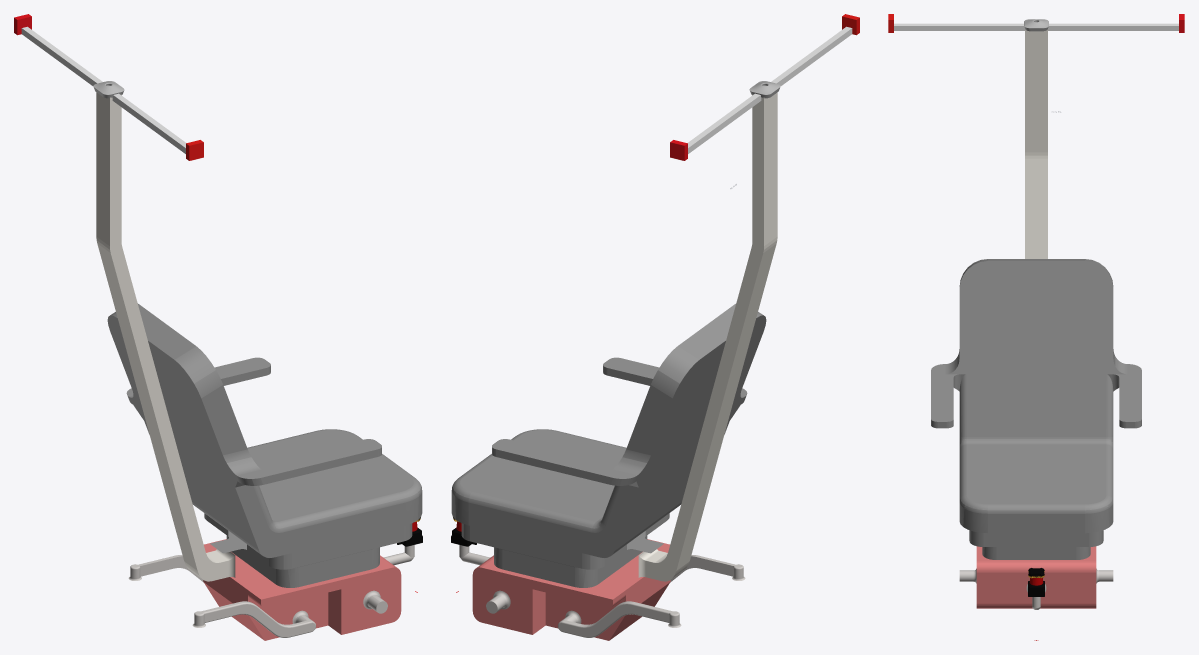
The model's file is wheelchair_base.dae.
3 renders of one model, left to right at view 1: azimuth 30°, elevation 25°; view 2: azimuth 150°, elevation 25°; view 3: azimuth 270°, elevation 25°, orthographic. The views are drawn at different scales.
Parts seen in each view (by area): view 1: _3DGeom_198, _3DGeom_199, _3DGeom_103, 立方体, _3DGeom_68, _3DGeom_105, _3DGeom_34; view 2: _3DGeom_198, _3DGeom_199, _3DGeom_103, 立方体, _3DGeom_34, _3DGeom_105, _3DGeom_68; view 3: _3DGeom_198, _3DGeom_103, _3DGeom_199, 立方体, _3DGeom_105, _3DGeom_622.
Part boxes in pixels (left/top/right/bottom): _3DGeom_198: left=107, top=303, right=422, bottom=587; _3DGeom_199: left=96, top=92, right=235, bottom=581; _3DGeom_103: left=203, top=539, right=401, bottom=640; 立方体: left=21, top=26, right=186, bottom=153; _3DGeom_68: left=192, top=601, right=315, bottom=637; _3DGeom_105: left=292, top=545, right=414, bottom=623; _3DGeom_34: left=128, top=555, right=203, bottom=582; _3DGeom_198: left=451, top=303, right=766, bottom=587; _3DGeom_199: left=638, top=92, right=777, bottom=581; _3DGeom_103: left=472, top=539, right=670, bottom=640; 立方体: left=687, top=26, right=852, bottom=153; _3DGeom_34: left=558, top=601, right=681, bottom=637; _3DGeom_105: left=459, top=545, right=581, bottom=623; _3DGeom_68: left=670, top=555, right=745, bottom=582; _3DGeom_198: left=931, top=259, right=1141, bottom=559; _3DGeom_103: left=976, top=546, right=1096, bottom=608; _3DGeom_199: left=1025, top=29, right=1047, bottom=258; 立方体: left=894, top=23, right=1178, bottom=30; _3DGeom_105: left=959, top=568, right=1113, bottom=609; _3DGeom_622: left=1028, top=568, right=1044, bottom=596.
Size of the model in its own units: 1.1 by 1.04 by 1.92.
